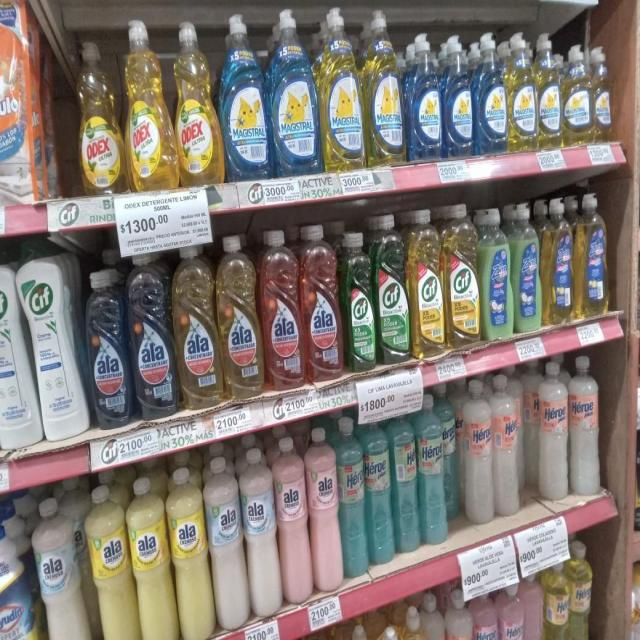ala_conc_amarillo: (176, 242, 220, 409), (220, 233, 262, 399)
ala_conc_azul: (130, 250, 175, 420), (86, 266, 128, 428)
ala_conc_rojo: (264, 227, 303, 391), (304, 224, 342, 382)
ala_crem_amarillo: (88, 482, 131, 640), (171, 465, 209, 640), (131, 475, 171, 640)
ala_crem_blanco: (37, 496, 88, 640), (209, 454, 244, 632), (245, 447, 278, 620)
ala_crem_rosado: (309, 424, 340, 594), (278, 435, 308, 607)
cif_conc_bot_amarilla: (444, 203, 480, 348), (411, 208, 444, 358)
cif_conc_botella_verde: (376, 213, 409, 364), (344, 229, 376, 372)
heroe: (569, 354, 603, 499), (418, 391, 448, 546), (461, 377, 492, 525), (536, 360, 568, 502), (339, 416, 366, 581), (492, 372, 522, 518), (366, 413, 392, 567), (392, 407, 418, 555), (568, 540, 593, 640), (544, 556, 568, 639), (500, 579, 524, 639), (474, 586, 500, 640), (448, 586, 473, 640), (429, 591, 449, 640), (406, 604, 430, 640)
magistral_con_amarillo: (321, 6, 363, 172), (365, 9, 404, 168), (508, 32, 536, 153), (562, 44, 592, 146), (537, 33, 561, 148), (592, 45, 614, 144)
magistral_con_azul: (222, 12, 270, 182), (272, 8, 319, 176), (406, 31, 441, 162), (474, 31, 506, 155), (442, 32, 473, 159)
odex: (124, 19, 174, 191), (174, 19, 220, 186), (76, 37, 124, 196)
zorro: (575, 192, 610, 320), (481, 205, 511, 341), (542, 197, 573, 326), (512, 202, 541, 334)
